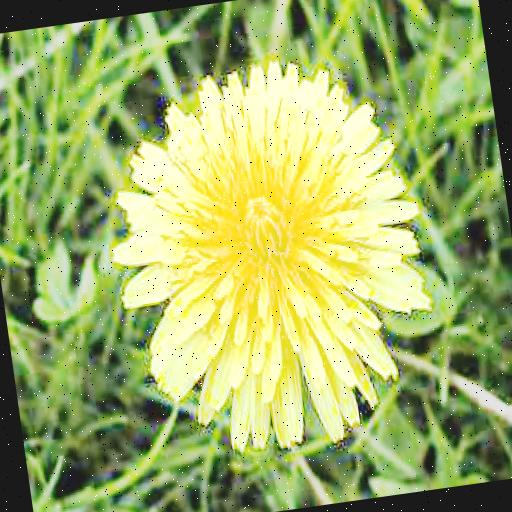dandelion: (88, 40, 450, 466)
